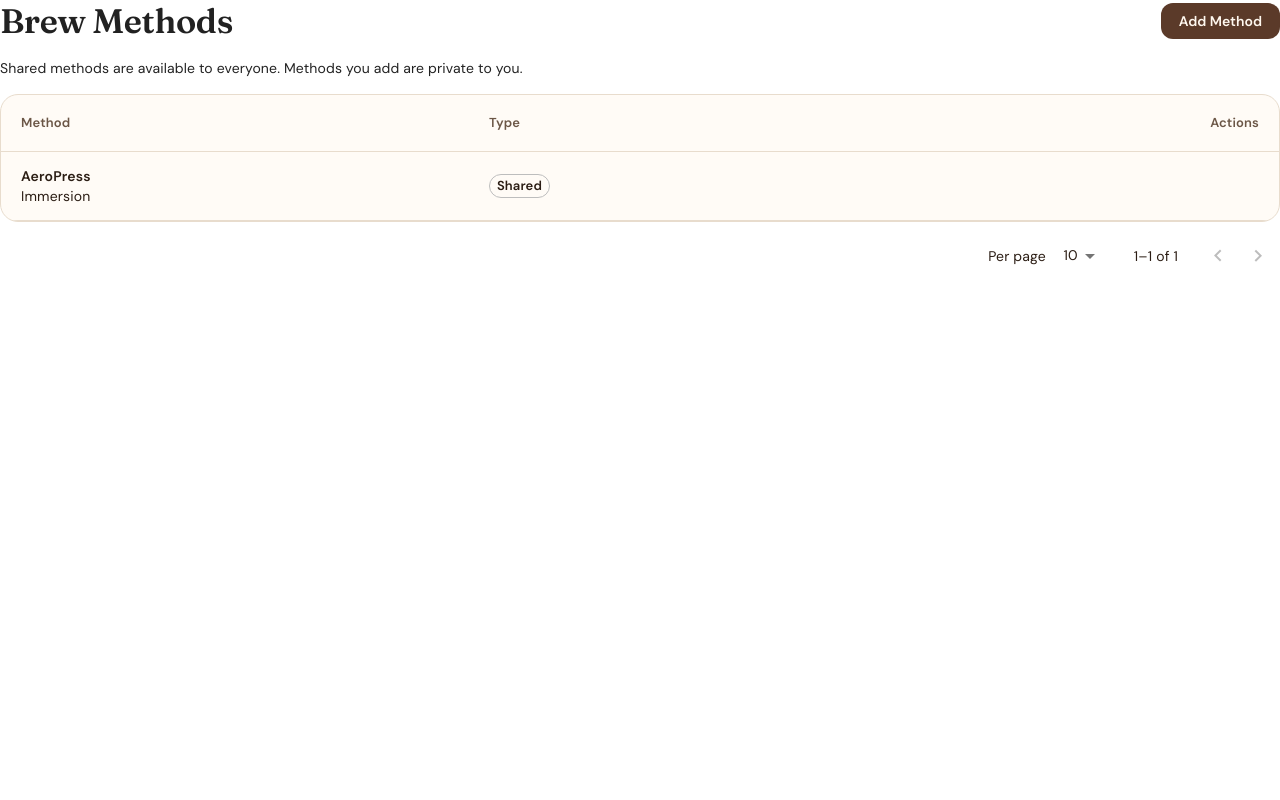
Scenario: BrewMethodsView › opens the add-method dialog
Click the button "Add Method" at (1220,21), box 1161,3 -> 1279,39
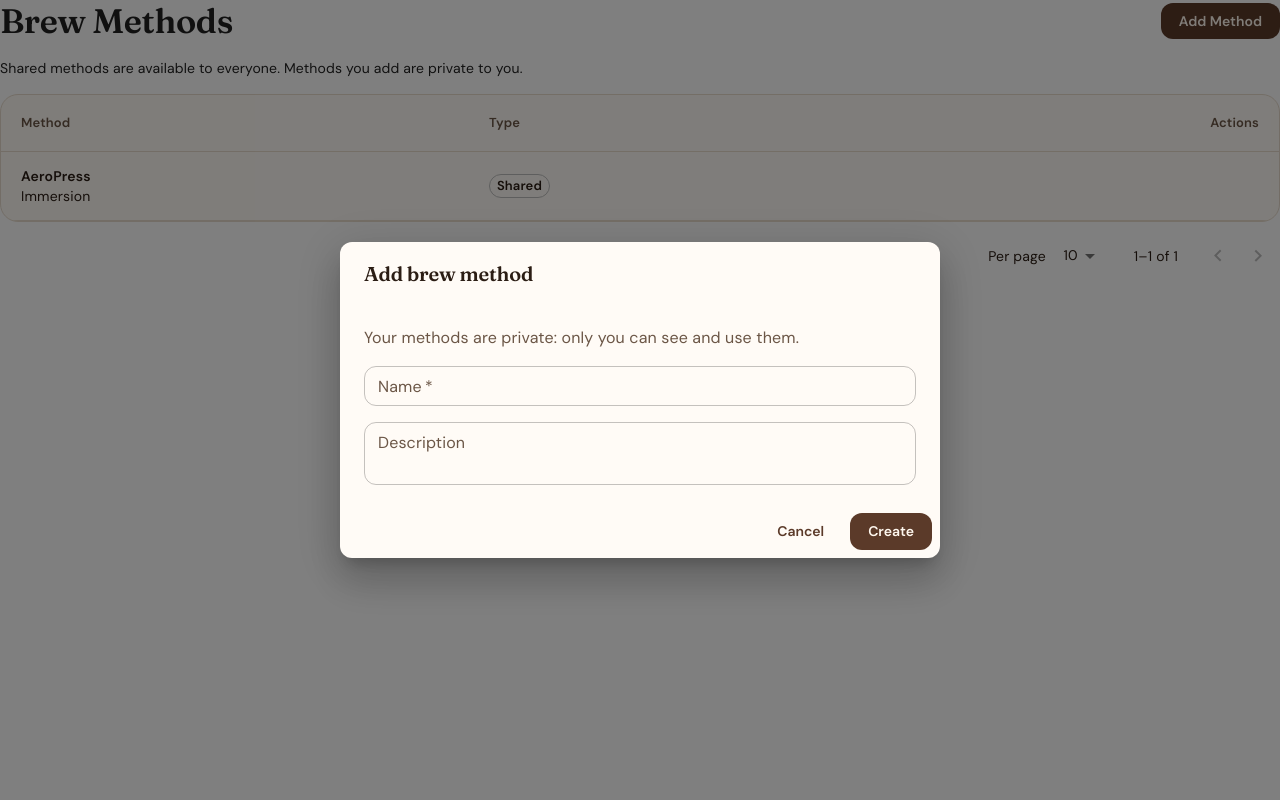
Check: the dialog "Add brew method" is shown, box 340,242 -> 940,558
